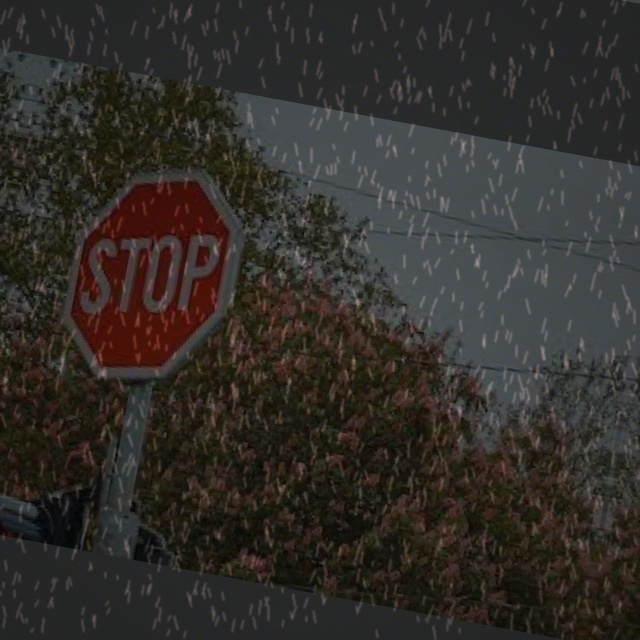Stop: (57, 156, 251, 394)
